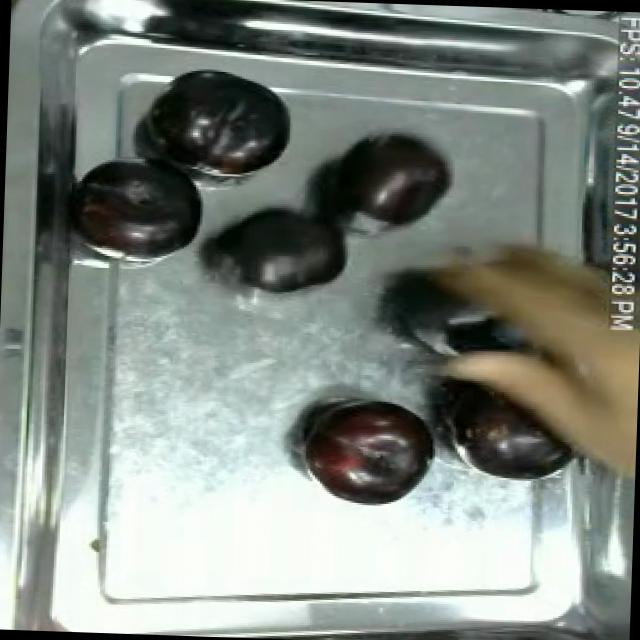Fruit: (144, 60, 302, 183), (294, 389, 439, 510), (66, 155, 214, 268), (316, 126, 458, 235), (220, 198, 356, 302)
